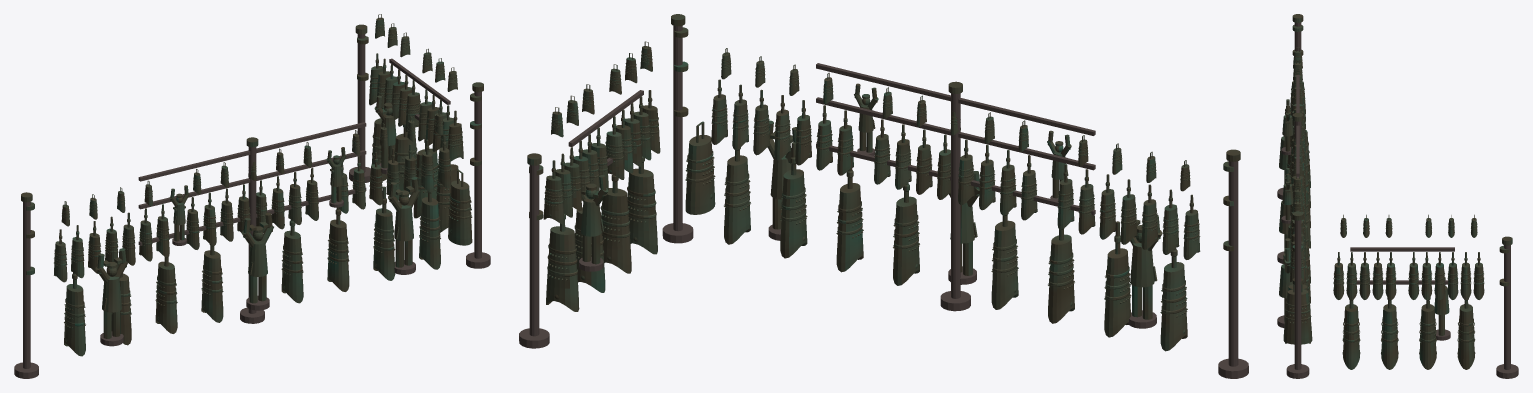
File: bianzhong.glb
3 renders of one model, left to right at view 1: azimuth 30°, elevation 25°; view 2: azimuth 150°, elevation 25°; view 3: azimuth 270°, elevation 25°, orthographic. The views are drawn at different scales.
Parts seen in each view (by area): view 1: Bronze, Lacquer; view 2: Bronze, Lacquer; view 3: Bronze, Lacquer.
Part boxes in pixels (<box>): Bronze: <box>21,14,483,356</box>; Lacquer: <box>14,34,490,378</box>; Bronze: <box>527,14,1240,351</box>; Lacquer: <box>519,25,1248,378</box>; Bronze: <box>1279,14,1512,369</box>; Lacquer: <box>1277,22,1518,378</box>.
Bounding box in the file's own units: 7.87 × 2.83 × 3.86.
2 materials, 1 textured.
